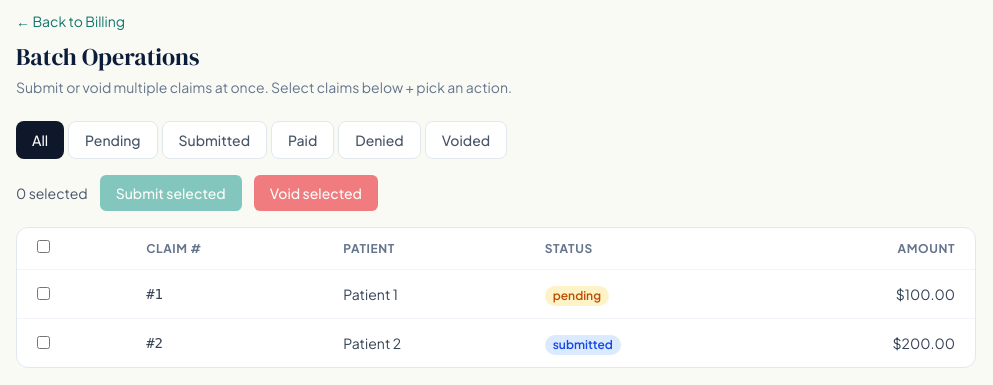
Scenario: BatchOperationsPage › toggles selection + updates counter
Click the checkbox named "Select claim 1" at (44, 294), box 37,287 -> 50,300
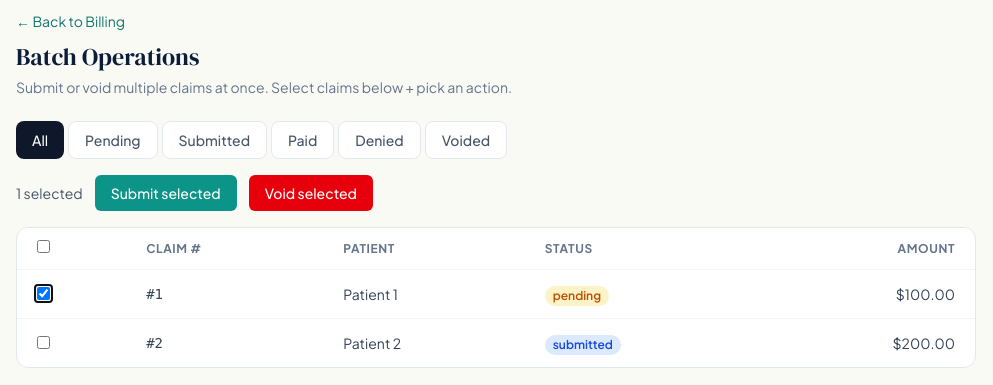
Expected: the text "1 selected" is shown, 16,183 -> 83,203
